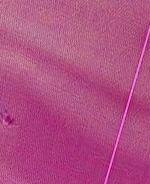knot: (1, 109, 18, 135)
